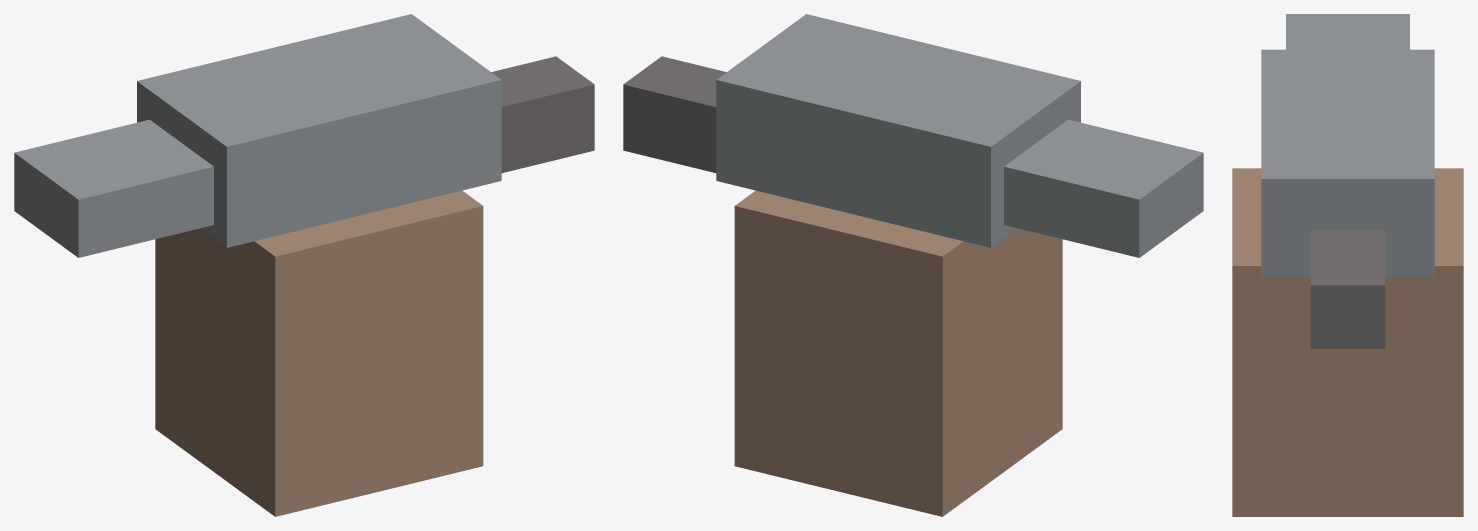
Rendered from blacksmith_anvil.glb.
3 renders of one model, left to right at view 1: azimuth 30°, elevation 25°; view 2: azimuth 150°, elevation 25°; view 3: azimuth 270°, elevation 25°, orthographic. The views are drawn at different scales.
Visible parts, largest first — view 1: box_0, box_1, box_2, box_3; view 2: box_0, box_1, box_2, box_3; view 3: box_0, box_1, box_3, box_2.
Boxes of the visible parts, left/top/right/bottom form: box_0: left=155, top=190, right=483, bottom=516; box_1: left=137, top=14, right=501, bottom=247; box_2: left=14, top=119, right=213, bottom=257; box_3: left=491, top=56, right=594, bottom=172; box_0: left=734, top=190, right=1062, bottom=516; box_1: left=716, top=14, right=1080, bottom=247; box_2: left=1004, top=119, right=1203, bottom=257; box_3: left=623, top=56, right=726, bottom=172; box_0: left=1232, top=168, right=1463, bottom=516; box_1: left=1261, top=49, right=1434, bottom=276; box_3: left=1310, top=229, right=1385, bottom=348; box_2: left=1286, top=14, right=1409, bottom=49.
Bounding box in the file's own units: 1.43 × 0.945 × 0.56.
